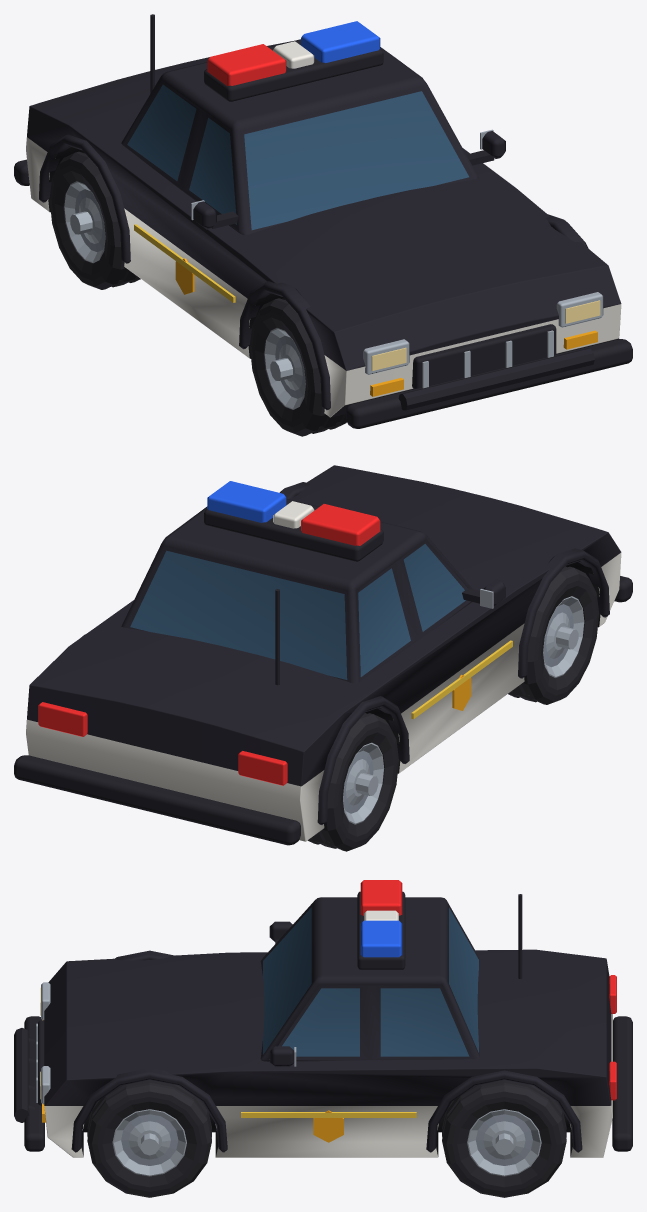
3 renders of one model, top to bottom at view 1: azimuth 30°, elevation 25°; view 2: azimuth 150°, elevation 25°; view 3: azimuth 270°, elevation 25°, orthographic. The views are drawn at different scales.
Visible parts, largest first — view 1: police_body, wheel_FR, wheel_RR; view 2: police_body, wheel_RR, wheel_FR; view 3: police_body, wheel_FL, wheel_RL.
Boxes of the visible parts, <box> form: police_body: <box>14,14,632,428</box>; wheel_FR: <box>250,298,346,436</box>; wheel_RR: <box>49,151,140,289</box>; police_body: <box>14,465,632,845</box>; wheel_RR: <box>308,713,398,851</box>; wheel_FR: <box>508,566,598,704</box>; police_body: <box>14,880,632,1157</box>; wheel_FL: <box>87,1080,211,1197</box>; wheel_RL: <box>442,1080,566,1197</box>.
Bounding box in the file's own units: 1.95 × 1.57 × 3.88.
1 material, 1 textured.
